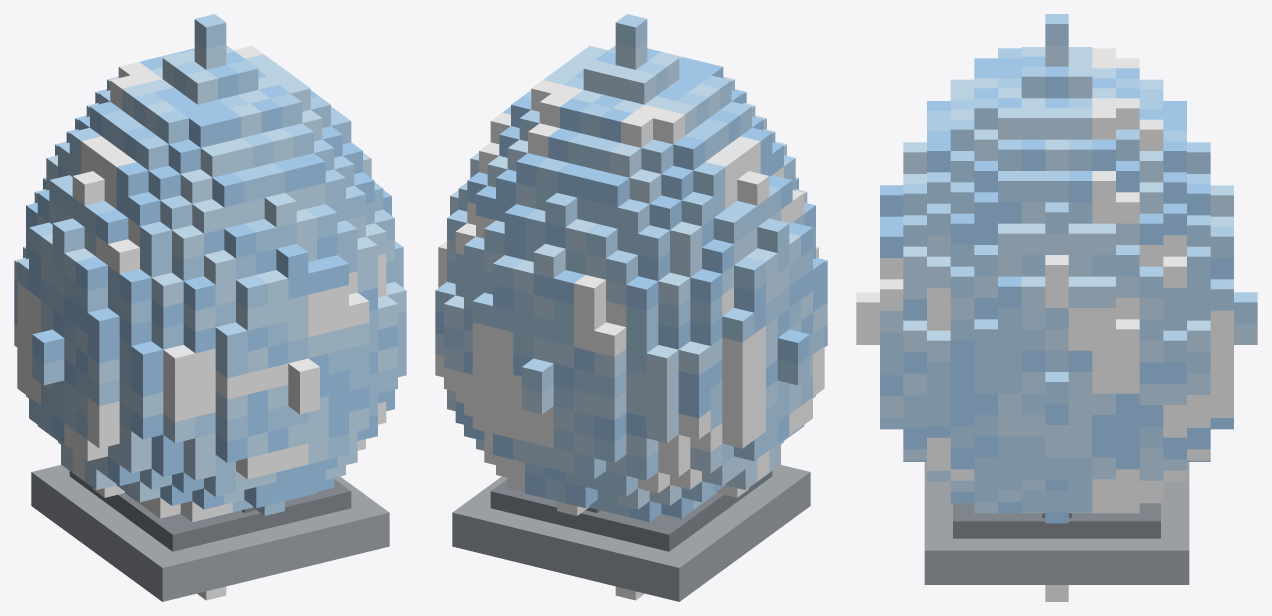
File: egg_comun_cielo.glb
The picture shows the model from 3 angles, left to right: view 1: azimuth 30°, elevation 25°; view 2: azimuth 150°, elevation 25°; view 3: azimuth 270°, elevation 25°; orthographic projection.
Parts seen in each view (by area): view 1: shell_geo, root_geo; view 2: shell_geo, root_geo; view 3: shell_geo, root_geo.
Boxes of the visible parts, x1,y1,x2,y2 form: shell_geo: (14,14,406,600); root_geo: (31,464,389,601); shell_geo: (435,14,827,600); root_geo: (452,464,810,601); shell_geo: (856,14,1257,601); root_geo: (924,462,1189,584).
Size of the model in its own units: 4.25 by 6.75 by 4.25.
